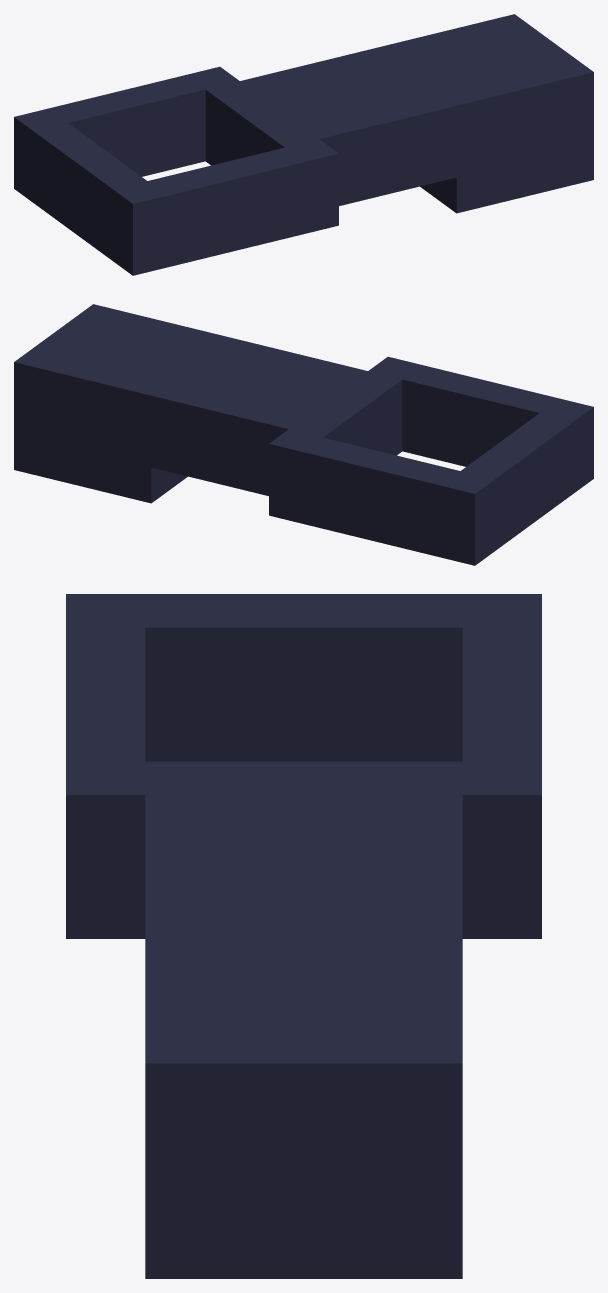
The model's file is testlevel.fbx.
3 renders of one model, top to bottom at view 1: azimuth 30°, elevation 25°; view 2: azimuth 150°, elevation 25°; view 3: azimuth 270°, elevation 25°, orthographic. The views are drawn at different scales.
Visible parts, largest first — view 1: Cube; view 2: Cube; view 3: Cube.
Boxes of the visible parts, bbox=[...] form: Cube: bbox=[14, 14, 593, 275]; Cube: bbox=[14, 304, 593, 565]; Cube: bbox=[66, 594, 541, 1278].
Size of the model in its own units: 28 by 6 by 12.
